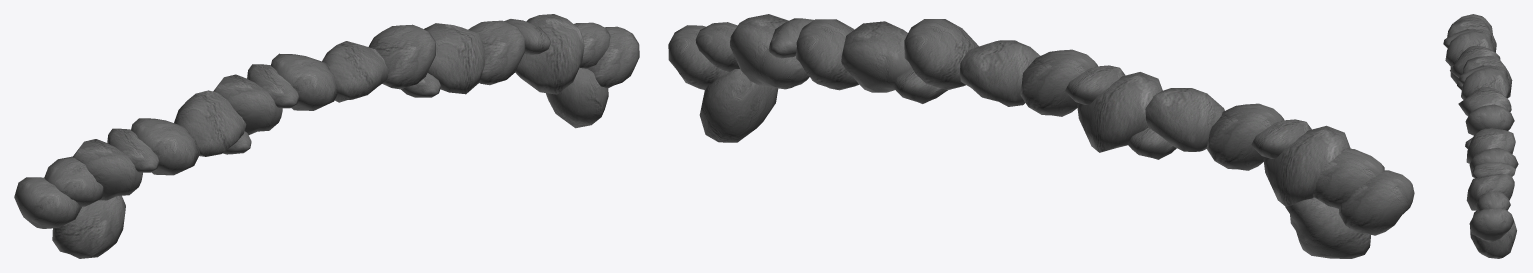
File: StoneBridgeLong2Shape.dae
3 renders of one model, left to right at view 1: azimuth 30°, elevation 25°; view 2: azimuth 150°, elevation 25°; view 3: azimuth 270°, elevation 25°, orthographic. The views are drawn at different scales.
Visible parts, largest first — view 1: StoneBridge_Long2; view 2: StoneBridge_Long2; view 3: StoneBridge_Long2.
Boxes of the visible parts, x1,y1,x2,y2 form: StoneBridge_Long2: (14,14,639,258); StoneBridge_Long2: (668,14,1414,258); StoneBridge_Long2: (1443,14,1518,258).
Size of the model in its own units: 84.11 by 18.21 by 13.21.
